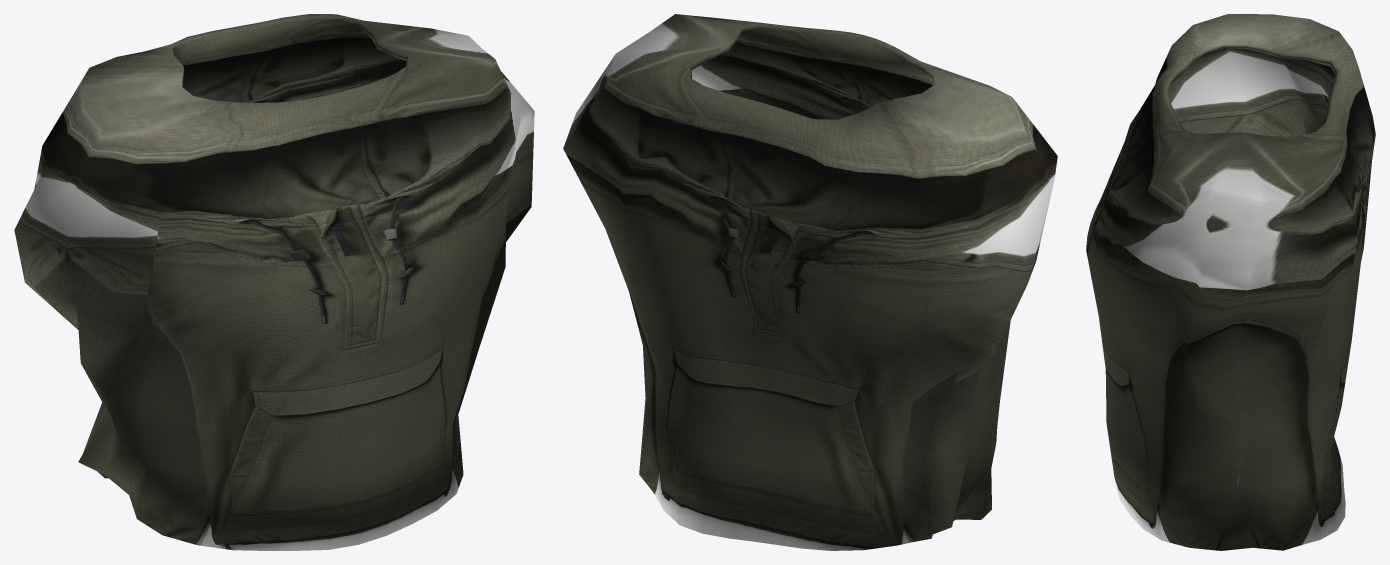
3 views of the same model, side by side, from view 1: azimuth 30°, elevation 25°; view 2: azimuth 150°, elevation 25°; view 3: azimuth 270°, elevation 25° (orthographic). The views are drawn at different scales.
Visible parts, largest first — view 1: garment; view 2: garment; view 3: garment.
Boxes of the visible parts, x1,y1,x2,y2 form: garment: [14, 14, 534, 550]; garment: [563, 14, 1057, 550]; garment: [1086, 14, 1375, 550].
Size of the model in its own units: 0.5571 by 0.4892 by 0.3186.
Materials: 1 (1 with a texture image).
